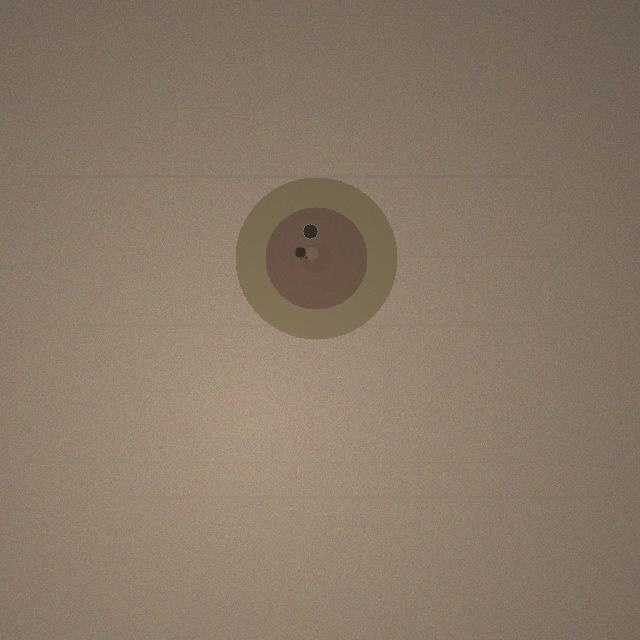shrinkage: (235, 177, 397, 339)
